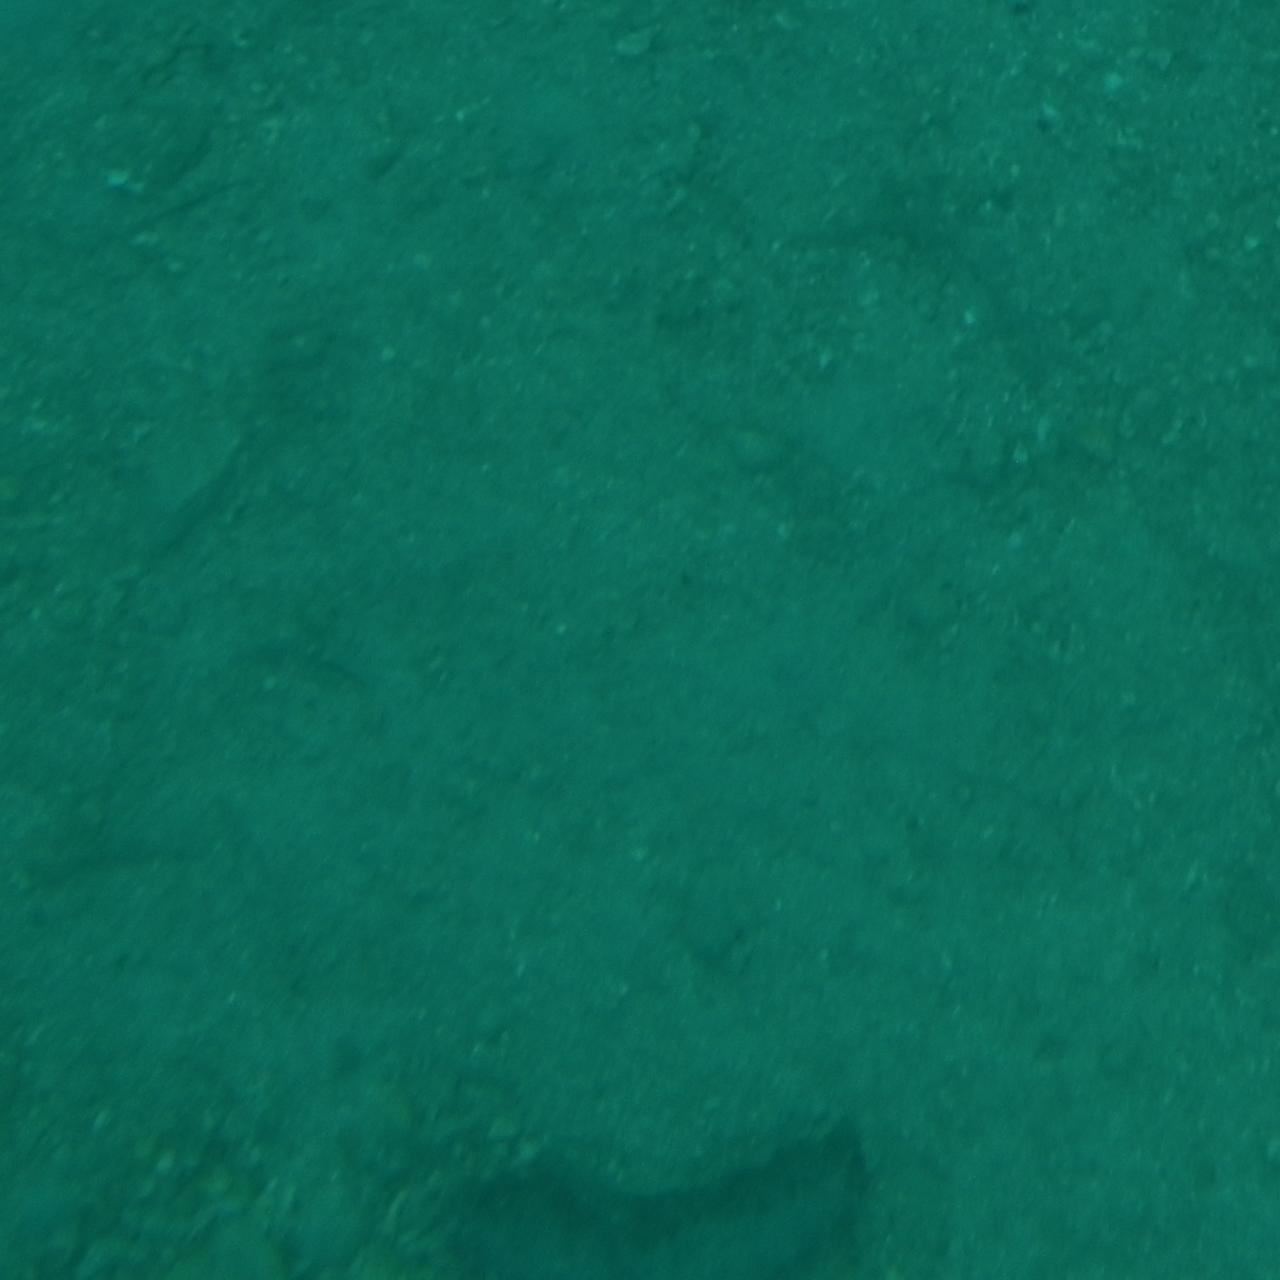Holothuria tubulosa: (420, 1111, 860, 1280)
